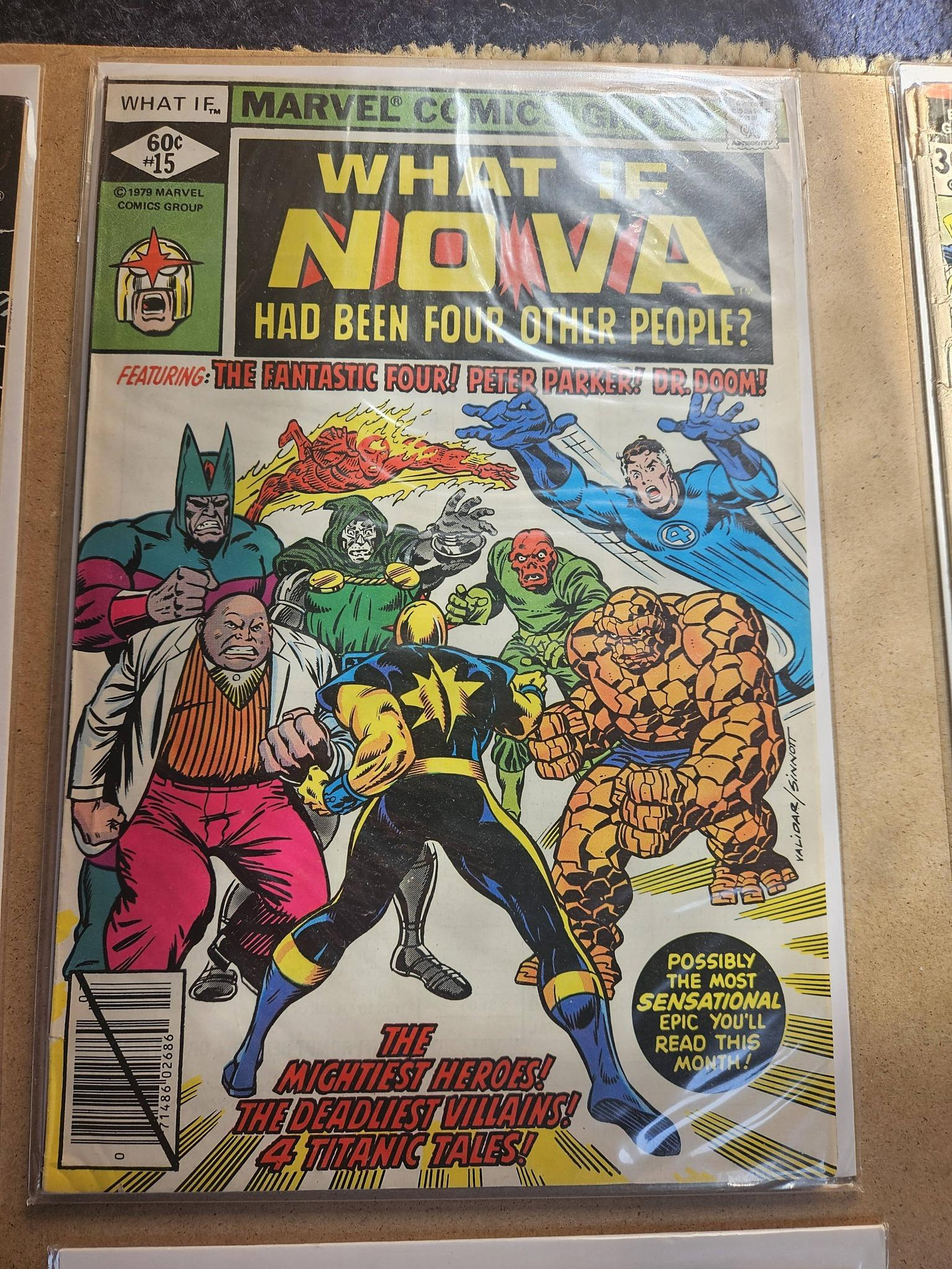comic: (36, 64, 854, 1195)
